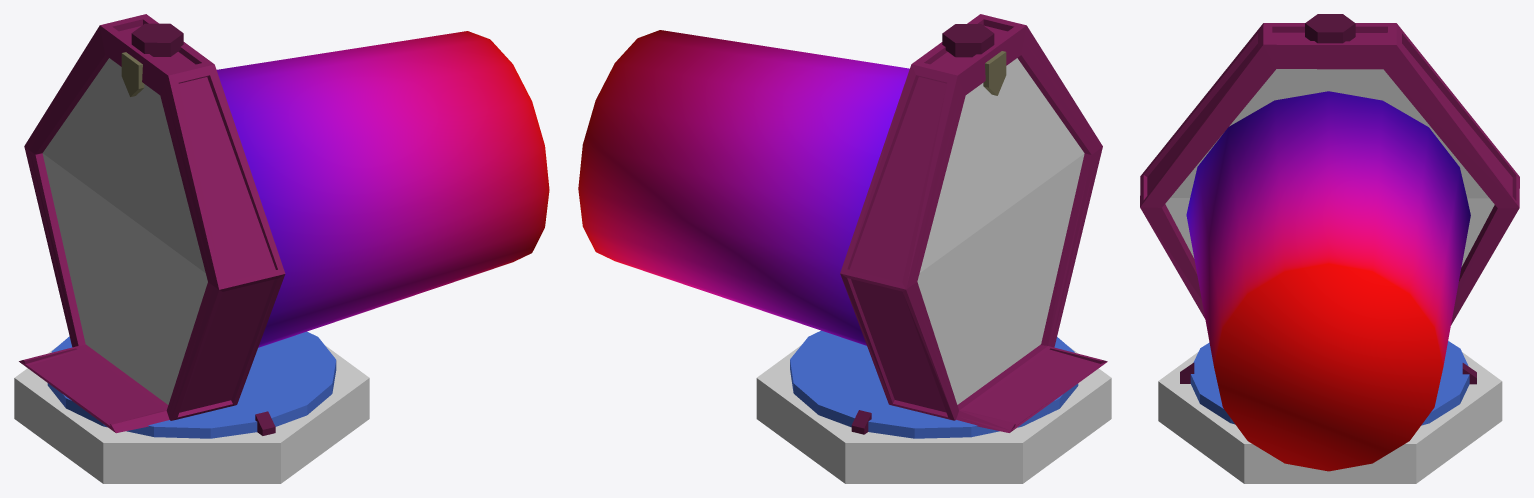
File: Teleport.glb
The picture shows the model from 3 angles, left to right: view 1: azimuth 30°, elevation 25°; view 2: azimuth 150°, elevation 25°; view 3: azimuth 270°, elevation 25°; orthographic projection. The views are drawn at different scales.
Parts seen in each view (by area): view 1: Sphere.004, Cylinder.001; view 2: Sphere.004, Cylinder.001; view 3: Cylinder.001, Sphere.004.
Part boxes in pixels (bbox=[...]): Sphere.004: bbox=[14, 14, 369, 483]; Cylinder.001: bbox=[216, 31, 549, 347]; Sphere.004: bbox=[756, 14, 1111, 483]; Cylinder.001: bbox=[578, 30, 909, 345]; Cylinder.001: bbox=[1186, 91, 1470, 471]; Sphere.004: bbox=[1140, 14, 1519, 483].
Bounding box in the file's own units: 2.58 × 2.25 × 2.03.
